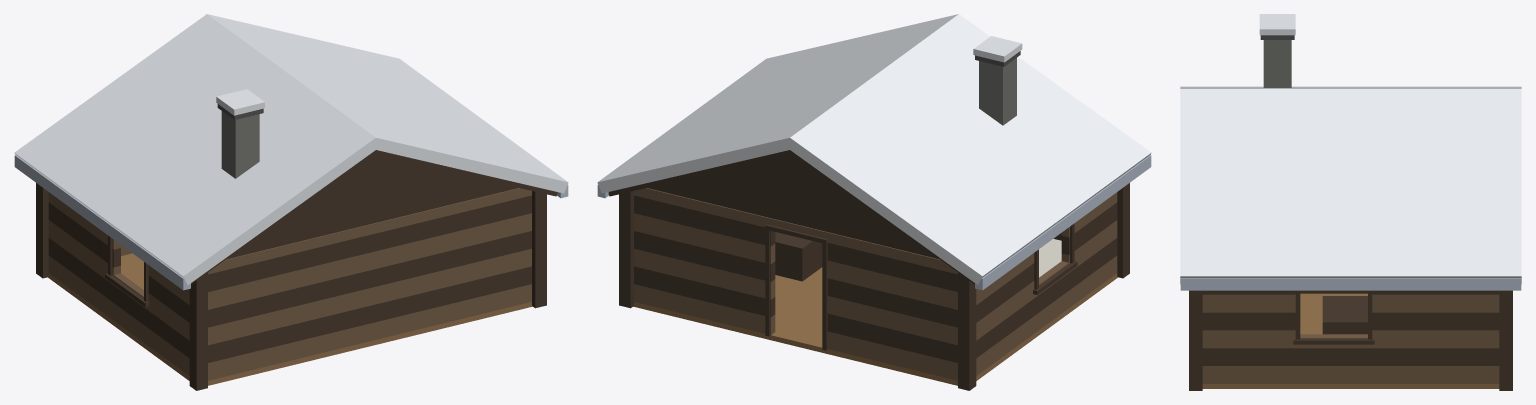
The model's file is log_cabin_snow.glb.
The picture shows the model from 3 angles, left to right: view 1: azimuth 30°, elevation 25°; view 2: azimuth 150°, elevation 25°; view 3: azimuth 270°, elevation 25°; orthographic projection.
Parts seen in each view (by area): view 1: log_cabin_snow; view 2: log_cabin_snow; view 3: log_cabin_snow.
Part boxes in pixels (<box>): log_cabin_snow: <box>14,14,568,390</box>; log_cabin_snow: <box>597,14,1151,390</box>; log_cabin_snow: <box>1180,14,1521,390</box>.
Size of what is drawn, in the model's own units: 7.96 by 4.72 by 6.05.
Materials: 2 (2 with a texture image).
